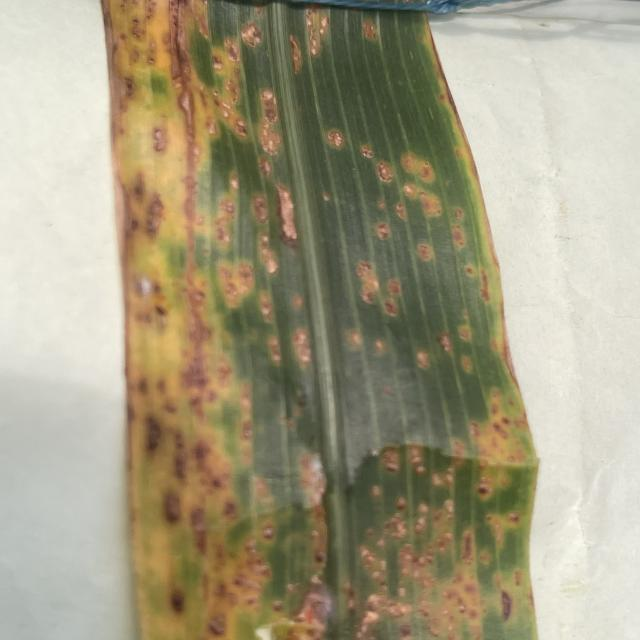millet_rust: (99, 0, 542, 640)
